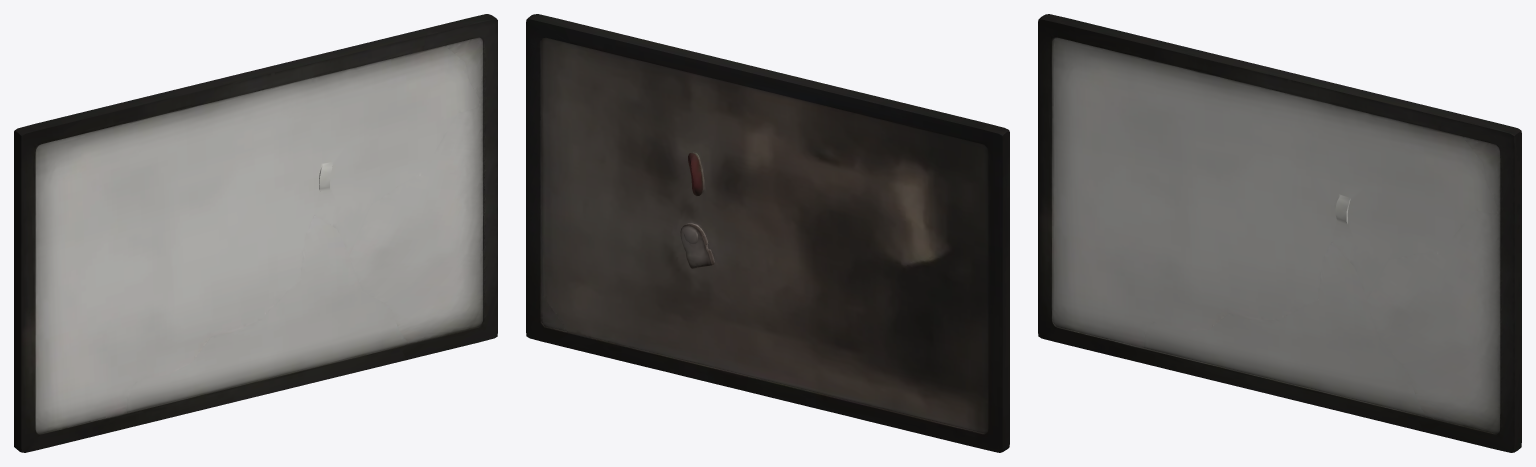
File: m2EnergyBarrierWall.glb
3 renders of one model, left to right at view 1: azimuth 30°, elevation 25°; view 2: azimuth 150°, elevation 25°; view 3: azimuth 330°, elevation 25°, orthographic.
Parts seen in each view (by area): view 1: model; view 2: model; view 3: model.
Boxes of the visible parts, x1,y1,x2,y2 form: model: (14,14,497,452); model: (526,14,1009,452); model: (1038,14,1521,452).
Size of the model in its own units: 1.9 by 1.22 by 0.0856.
Materials: 1 (1 with a texture image).
